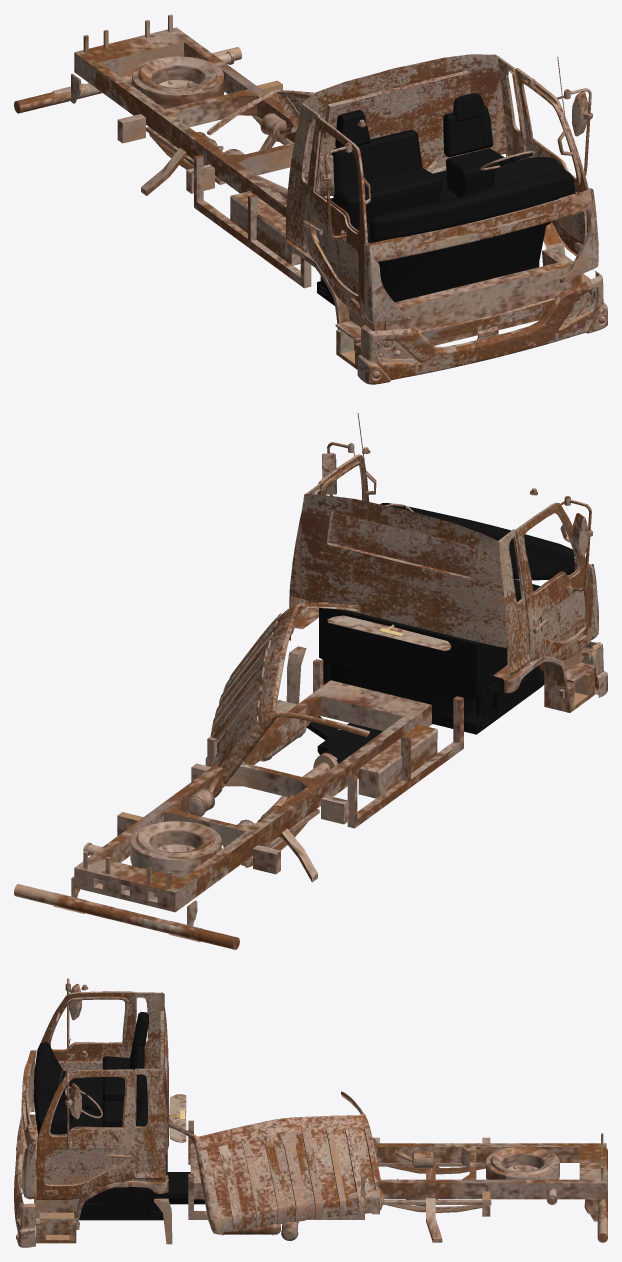
Rendered from truck_broken.FBX.
3 views of the same model, one above another, from view 1: azimuth 30°, elevation 25°; view 2: azimuth 150°, elevation 25°; view 3: azimuth 270°, elevation 25° (orthographic). The views are drawn at different scales.
Parts seen in each view (by area): view 1: pasted__polySurface453, polySurface30, pasted__polySurface421, polySurface2, polySurface96, polySurface93, pasted__polySurface451, polySurface102, polySurface85, polySurface101, pasted__polySurface425, polySurface53 (+20 smaller); view 2: pasted__polySurface453, polySurface30, polySurface2, pasted__polySurface427, pasted__polySurface451, polySurface85, polySurface39, polySurface53, polySurface96, polySurface110, polySurface24, polySurface21 (+3 smaller); view 3: pasted__polySurface427, polySurface30, pasted__polySurface475, pasted__polySurface453, polySurface2, pasted__polySurface451, polySurface96, polySurface85, polySurface10, pasted__polySurface421, polySurface102, polySurface7 (+15 smaller).
Part boxes in pixels (bbox=[...]): pasted__polySurface453: bbox=[286, 54, 525, 252]; polySurface30: bbox=[74, 27, 296, 217]; pasted__polySurface421: bbox=[357, 270, 607, 384]; polySurface2: bbox=[317, 170, 552, 305]; polySurface96: bbox=[370, 157, 575, 242]; polySurface93: bbox=[384, 260, 573, 345]; pasted__polySurface451: bbox=[304, 116, 367, 319]; polySurface102: bbox=[333, 167, 441, 227]; polySurface85: bbox=[132, 56, 224, 105]; polySurface101: bbox=[331, 129, 422, 188]; pasted__polySurface425: bbox=[368, 190, 591, 261]; polySurface53: bbox=[194, 155, 311, 288]; pasted__polySurface453: bbox=[289, 482, 530, 679]; polySurface30: bbox=[74, 680, 431, 912]; polySurface2: bbox=[306, 579, 544, 763]; pasted__polySurface427: bbox=[207, 602, 369, 797]; pasted__polySurface451: bbox=[515, 502, 591, 661]; polySurface85: bbox=[130, 821, 221, 870]; polySurface39: bbox=[14, 884, 239, 949]; polySurface53: bbox=[347, 696, 463, 828]; polySurface96: bbox=[380, 503, 574, 580]; polySurface110: bbox=[358, 725, 437, 798]; polySurface24: bbox=[543, 649, 594, 712]; polySurface21: bbox=[493, 656, 567, 693]; pasted__polySurface427: bbox=[169, 1091, 383, 1234]; polySurface30: bbox=[190, 1143, 606, 1199]; pasted__polySurface475: bbox=[36, 1069, 135, 1199]; pasted__polySurface453: bbox=[133, 992, 168, 1181]; polySurface2: bbox=[61, 1070, 204, 1220]; pasted__polySurface451: bbox=[40, 991, 134, 1070]; polySurface96: bbox=[34, 1042, 66, 1134]; polySurface85: bbox=[486, 1146, 559, 1179]; polySurface10: bbox=[36, 1194, 79, 1243]; pasted__polySurface421: bbox=[14, 1114, 35, 1247]; polySurface102: bbox=[102, 1056, 129, 1101]; polySurface7: bbox=[76, 1175, 168, 1224].
Bounding box in the file's own units: 5.93 × 5.42 × 13.86.
Materials: 3 (1 with a texture image).
